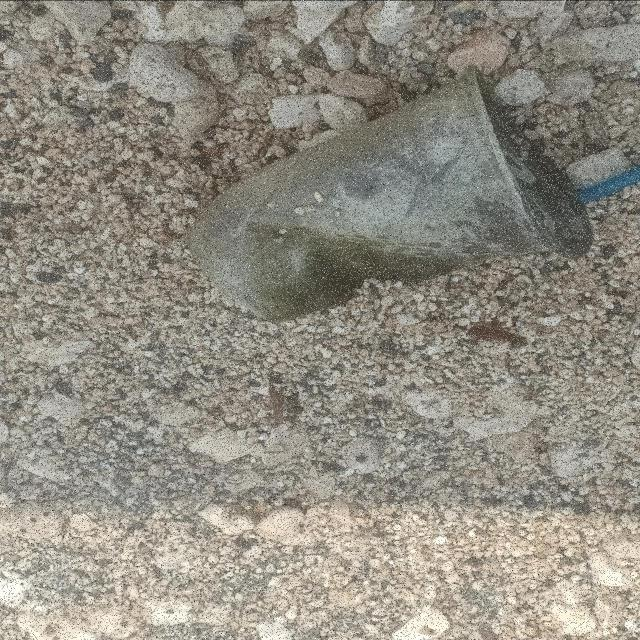plastic_waste: (185, 63, 595, 323)
